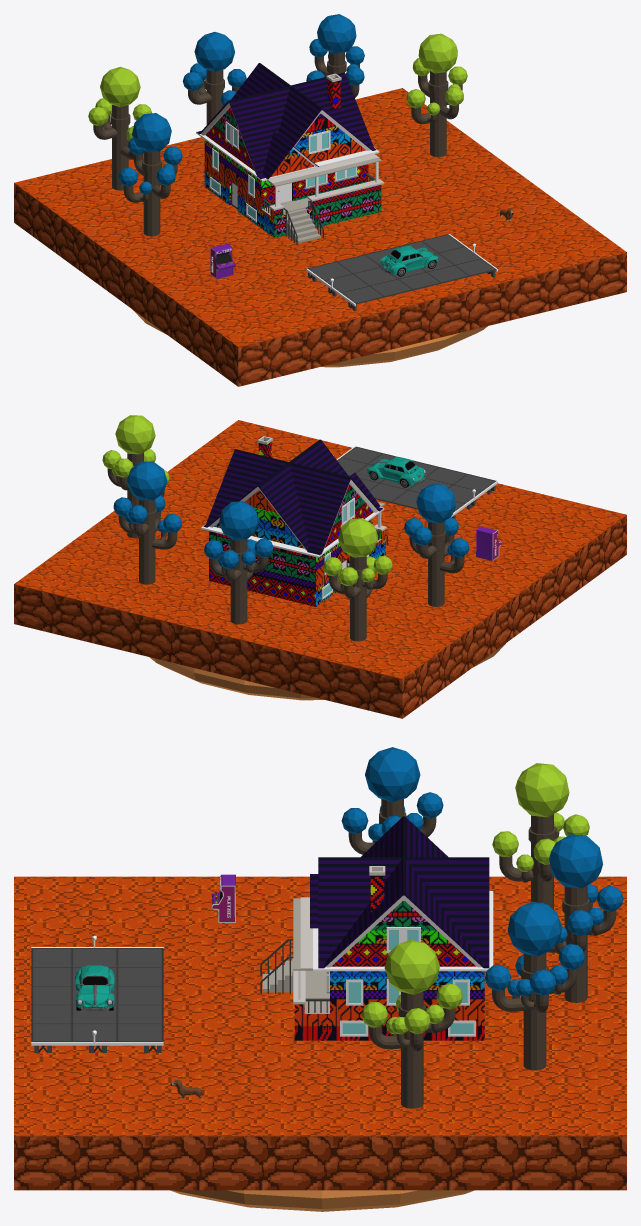
The picture shows the model from 3 angles, top to bottom: view 1: azimuth 30°, elevation 25°; view 2: azimuth 150°, elevation 25°; view 3: azimuth 270°, elevation 25°; orthographic projection. The views are drawn at different scales.
Parts seen in each view (by area): view 1: Cube.001, Cube.966, UNDERGROUND_PIZZA, VEHICLES_VOLKSWAGEN, OBJRANDOM_ARCADE; view 2: Cube.001, Cube.966, UNDERGROUND_PIZZA, VEHICLES_VOLKSWAGEN, OBJRANDOM_ARCADE; view 3: Cube.001, Cube.966, UNDERGROUND_PIZZA, VEHICLES_VOLKSWAGEN, OBJRANDOM_ARCADE.
Part boxes in pixels (<box>): Cube.001: <box>14,14,626,386</box>; Cube.966: <box>196,63,384,244</box>; UNDERGROUND_PIZZA: <box>132,309,487,367</box>; VEHICLES_VOLKSWAGEN: <box>379,245,438,276</box>; OBJRANDOM_ARCADE: <box>210,243,235,278</box>; Cube.001: <box>14,415,626,718</box>; Cube.966: <box>201,436,387,606</box>; UNDERGROUND_PIZZA: <box>149,643,505,700</box>; VEHICLES_VOLKSWAGEN: <box>367,456,426,487</box>; OBJRANDOM_ARCADE: <box>476,526,501,560</box>; Cube.001: <box>14,747,626,1190</box>; Cube.966: <box>260,816,493,1040</box>; UNDERGROUND_PIZZA: <box>170,1190,474,1211</box>; VEHICLES_VOLKSWAGEN: <box>75,965,114,1011</box>; OBJRANDOM_ARCADE: <box>211,874,235,922</box>.
Size of the model in its own units: 4000 by 1875 by 4000.
47 materials, 8 textured.
